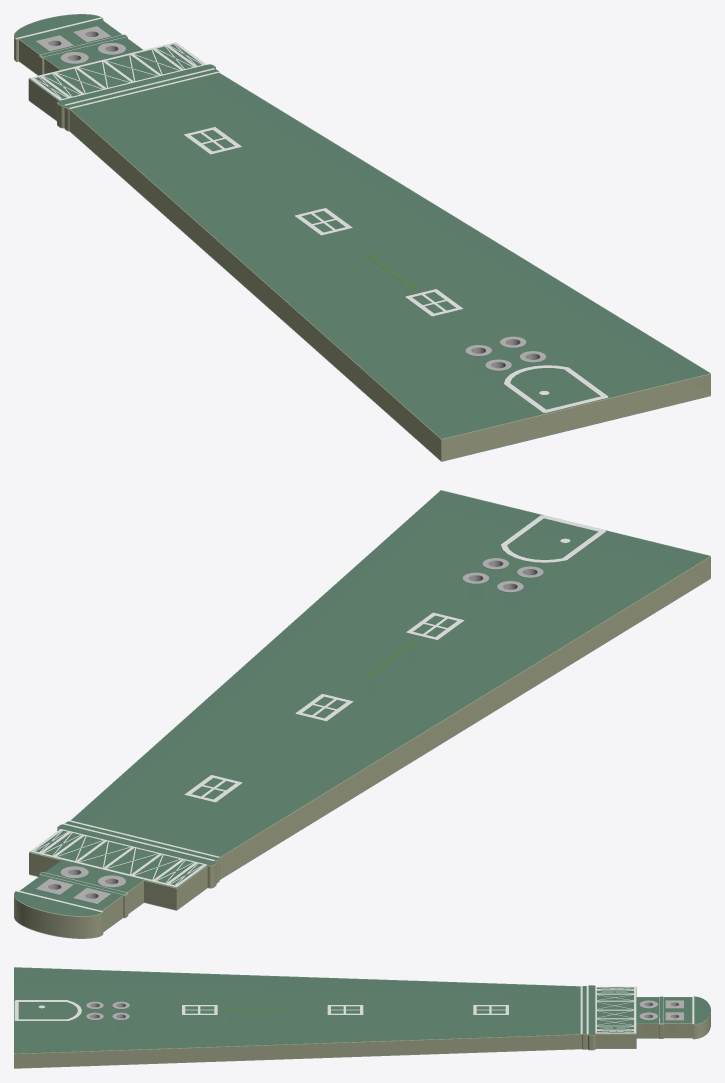
The model's file is offzone-2023-lighthouse-add-on.glb.
The picture shows the model from 3 angles, top to bottom: view 1: azimuth 30°, elevation 25°; view 2: azimuth 150°, elevation 25°; view 3: azimuth 270°, elevation 25°; orthographic projection. The views are drawn at different scales.
Parts seen in each view (by area): view 1: =>[0:1:1:9], =>[0:1:1:7], =>[0:1:1:5], =>[0:1:1:2]; view 2: =>[0:1:1:9], =>[0:1:1:7], =>[0:1:1:5], =>[0:1:1:2]; view 3: =>[0:1:1:9], =>[0:1:1:7], =>[0:1:1:5], =>[0:1:1:2].
Boxes of the visible parts, x1,y1,x2,y2 form: =>[0:1:1:9]: [14, 15, 710, 460]; =>[0:1:1:7]: [14, 14, 710, 461]; =>[0:1:1:5]: [15, 17, 608, 412]; =>[0:1:1:2]: [36, 26, 546, 370]; =>[0:1:1:9]: [14, 491, 710, 938]; =>[0:1:1:7]: [14, 490, 710, 938]; =>[0:1:1:5]: [15, 515, 605, 912]; =>[0:1:1:2]: [36, 558, 543, 903]; =>[0:1:1:9]: [14, 968, 710, 1068]; =>[0:1:1:7]: [14, 967, 710, 1068]; =>[0:1:1:5]: [14, 986, 694, 1034]; =>[0:1:1:2]: [86, 1000, 683, 1020].
Size of the model in its own units: 0.0199 by 0.00166 by 0.0678.
4 materials, 4 textured.
